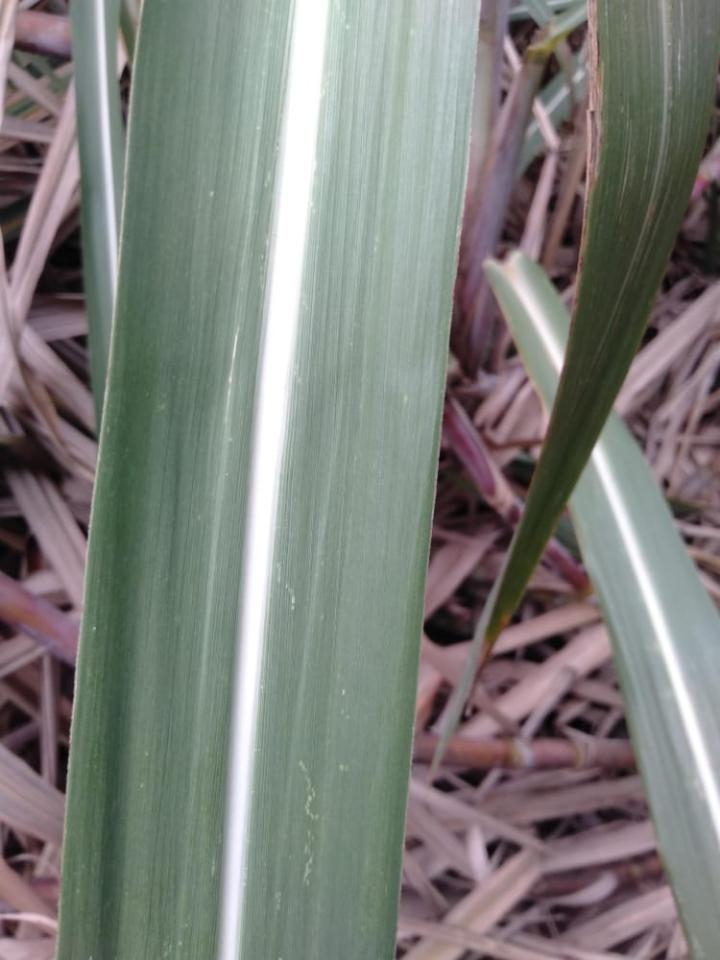Healthy: (54, 0, 482, 959)
